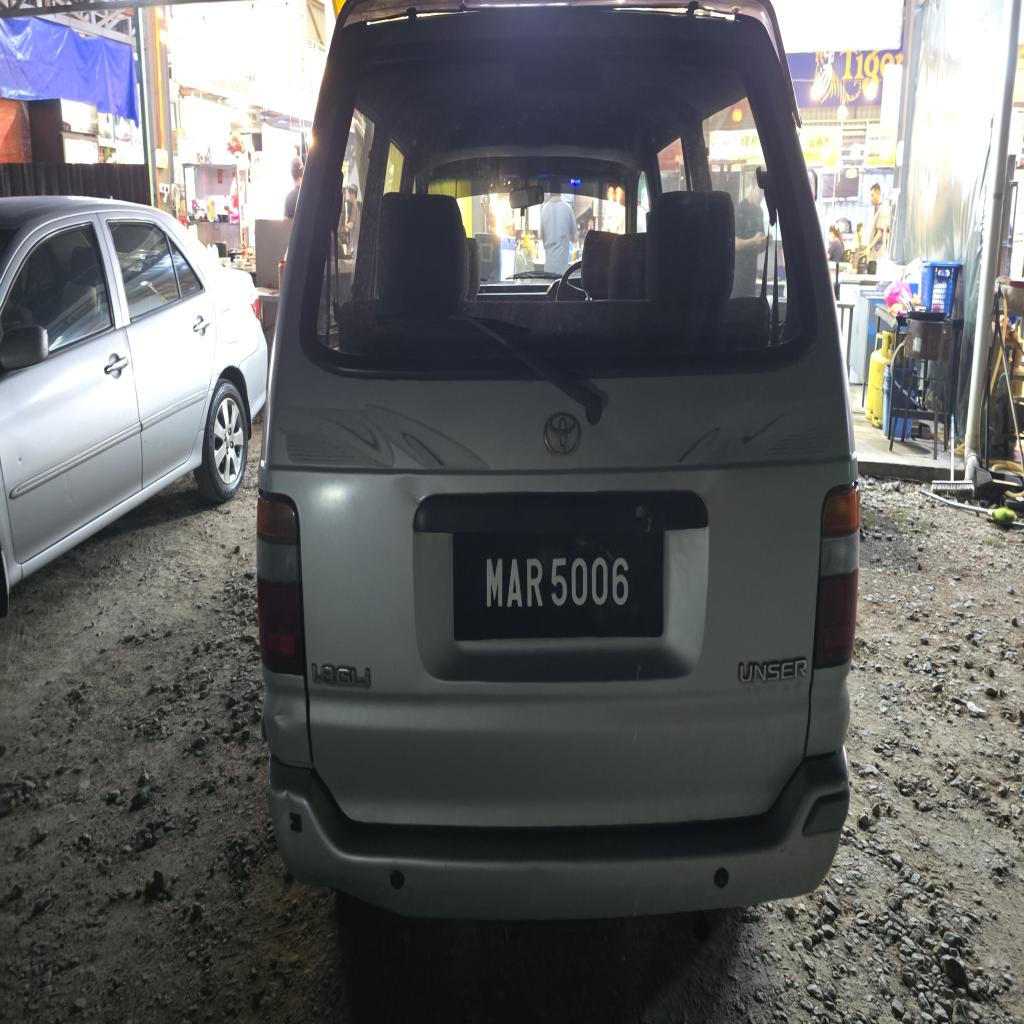car: (258, 0, 859, 917)
car plate: (453, 532, 663, 640)
